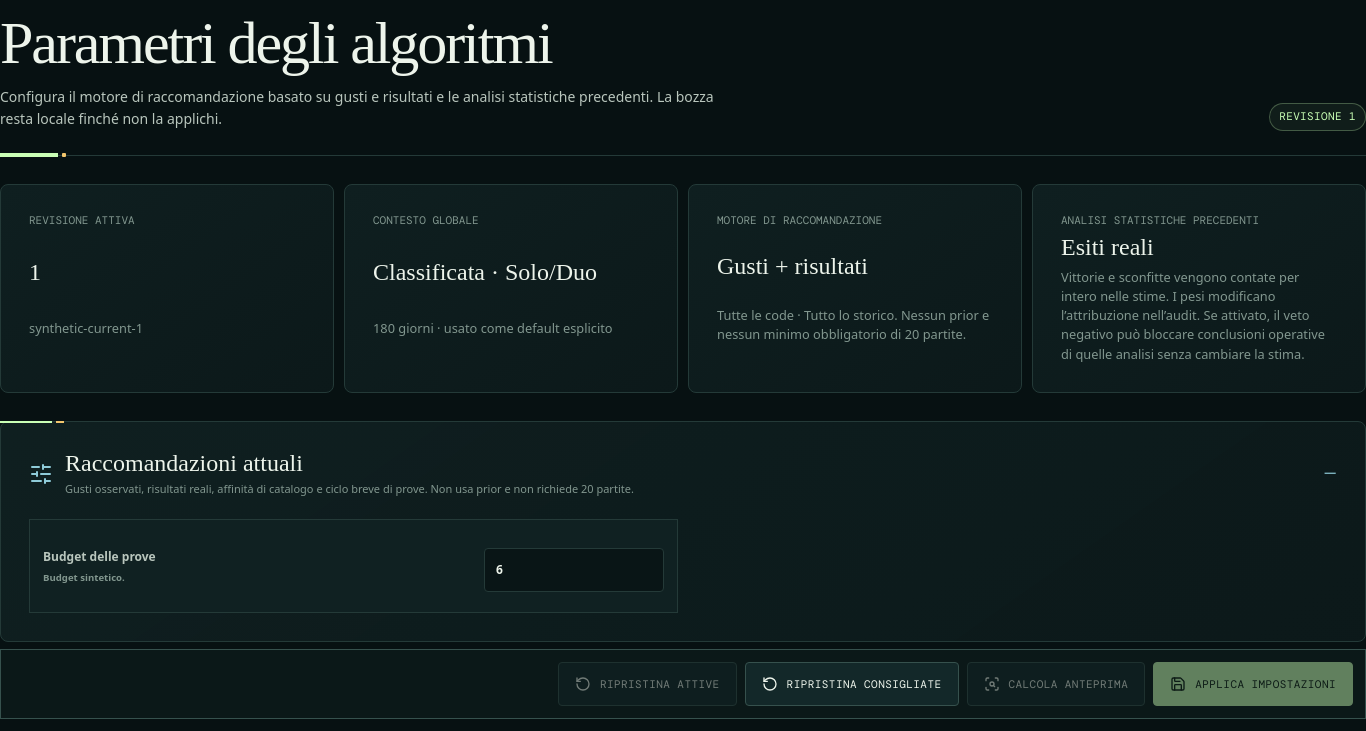
impostazioni: risposte incomplete e recupero esplicito › rifiuta preview200 vuota prima del rendering e permette il ricalcolo esplicito
Replace the text in the number field labelled "Budget delle prove" with "4" at [574, 570], box [484, 548, 664, 592]
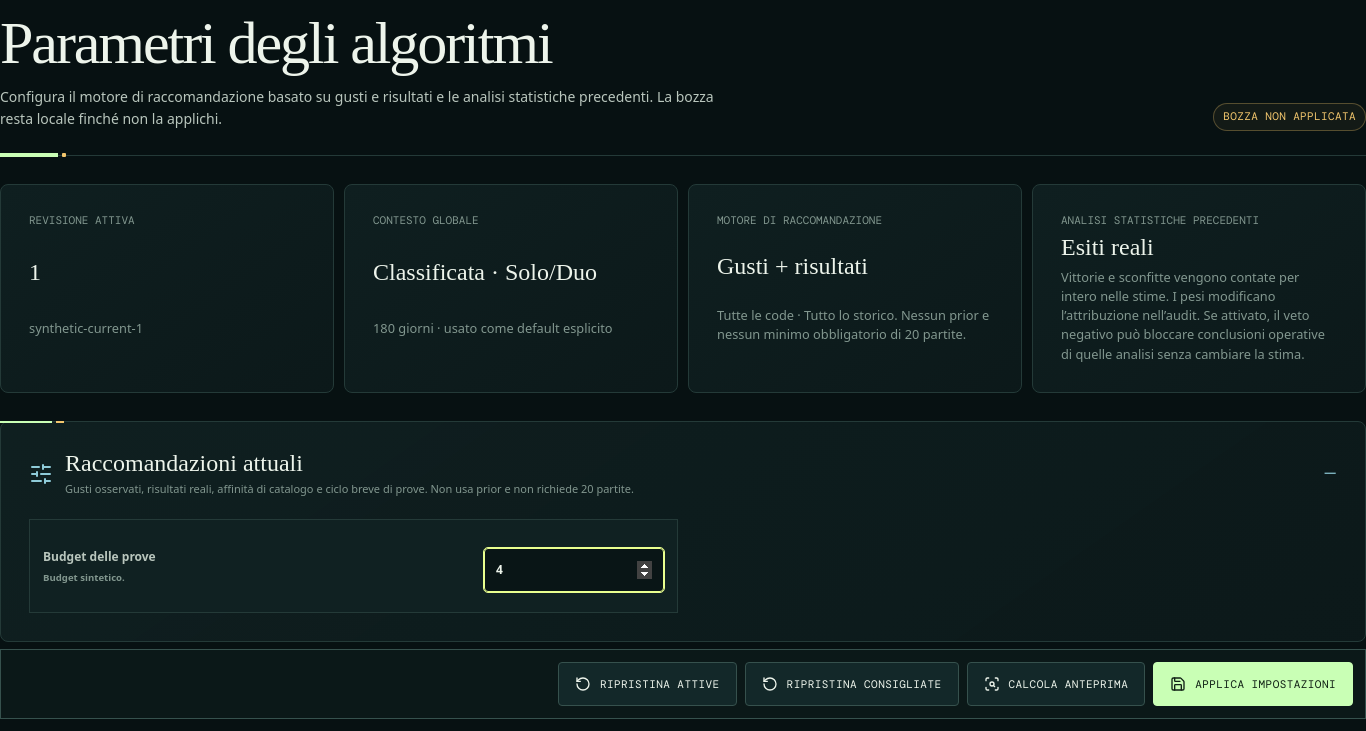
Click the button "Calcola anteprima" at [1056, 684], box [966, 662, 1145, 706]
(page scrolled)
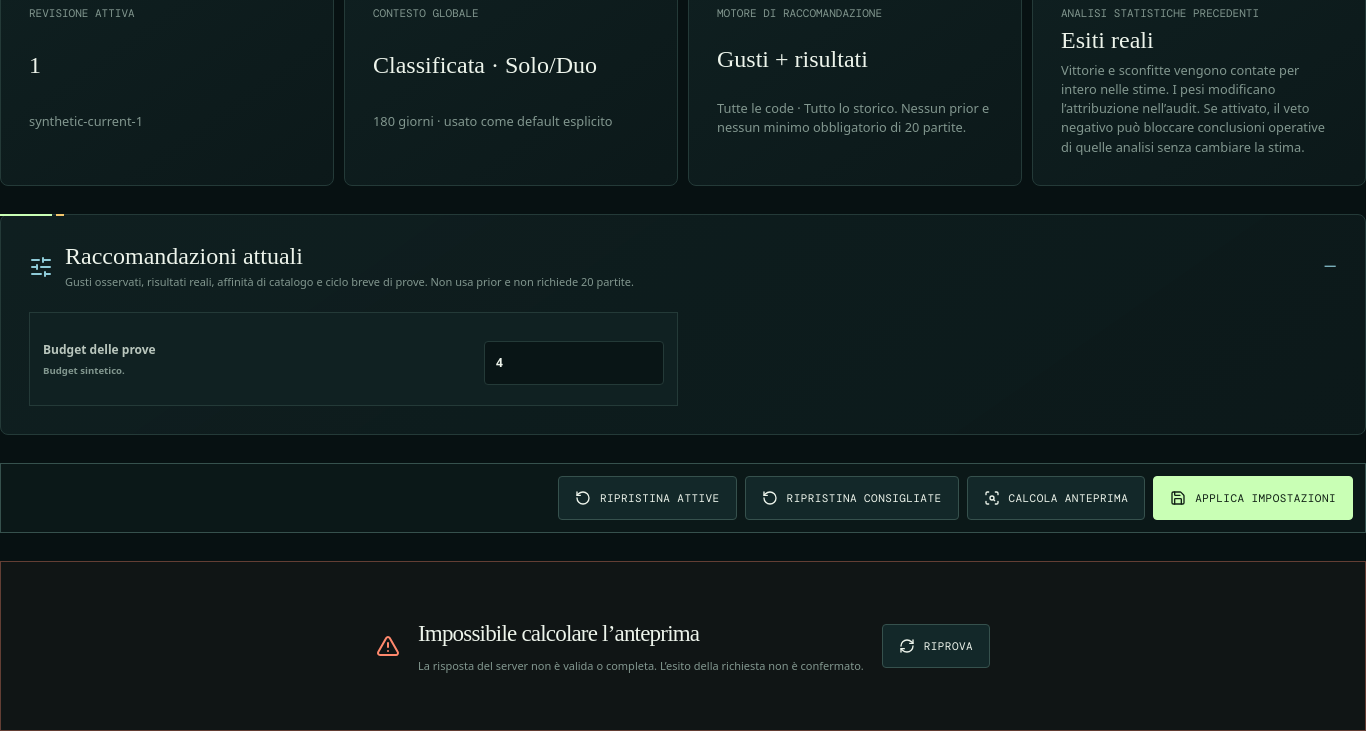
Check: the number field labelled "Budget delle prove" is enabled, box [484, 341, 664, 385]
Check: the message shows "La risposta del server non è valida o completa. L’esito della richiesta non è confermato.", box [418, 658, 864, 674]
Click the button "Riprova" at [936, 646], box [882, 624, 990, 668]
(page scrolled)
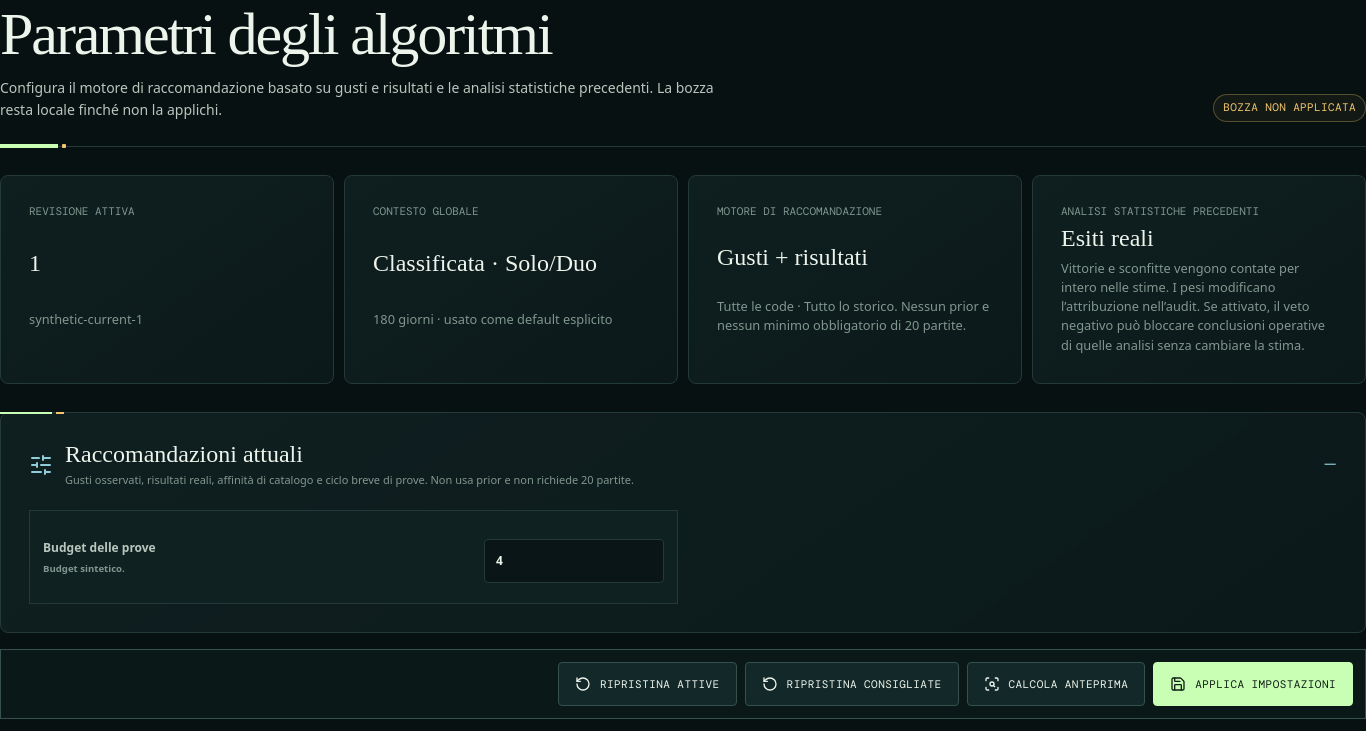
Check: the number field labelled "Budget delle prove" is enabled, box [484, 539, 664, 583]
Check: the text "Bozza non applicata" is shown, box [1213, 94, 1365, 122]
Check: the message is gone
